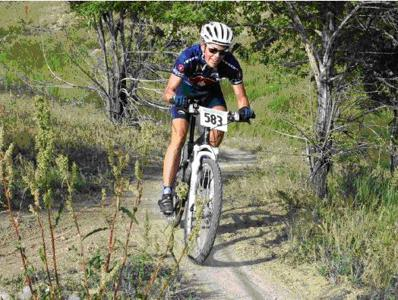person: (163, 23, 257, 216)
